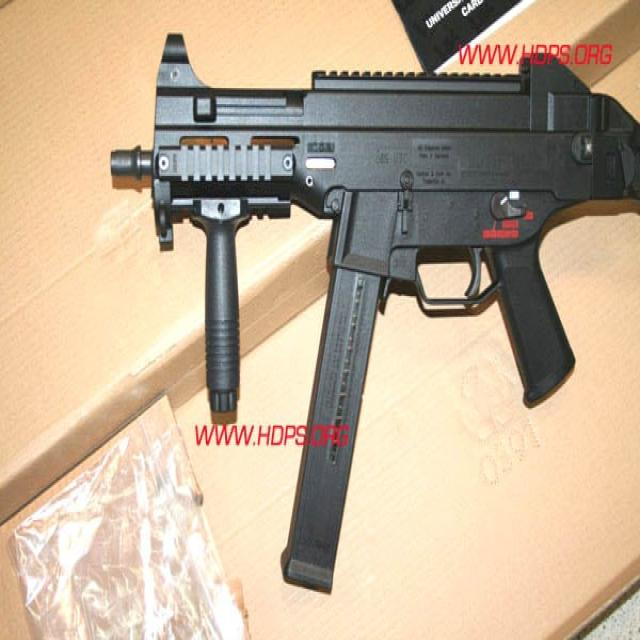SMG: (111, 32, 640, 598)
